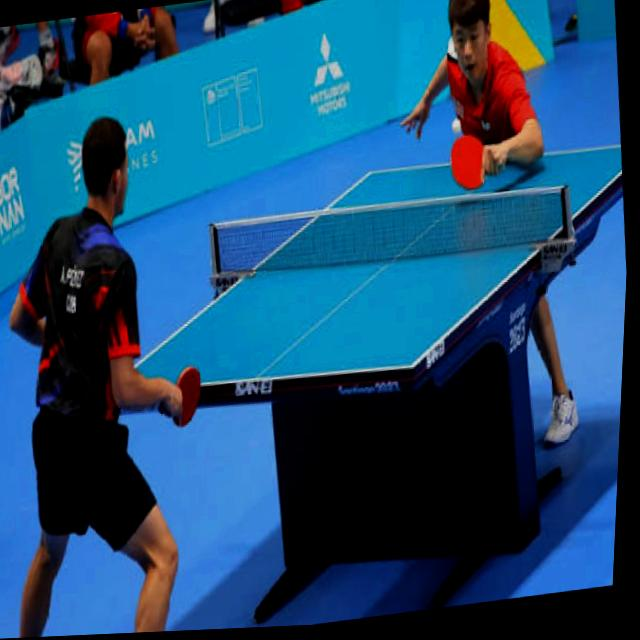TT Net: (204, 179, 575, 285)
TT Racket: (168, 355, 205, 439), (447, 131, 491, 195)
TT Table: (100, 145, 621, 392)
